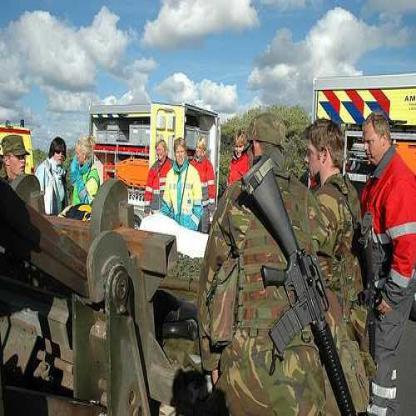Heavy Gun: (240, 159, 359, 416)
Person: (211, 114, 371, 416), (364, 111, 416, 416), (303, 120, 368, 321), (168, 136, 204, 230), (143, 141, 181, 205), (40, 140, 71, 214), (71, 139, 102, 212), (190, 142, 218, 215), (1, 135, 32, 186), (226, 129, 250, 187)
